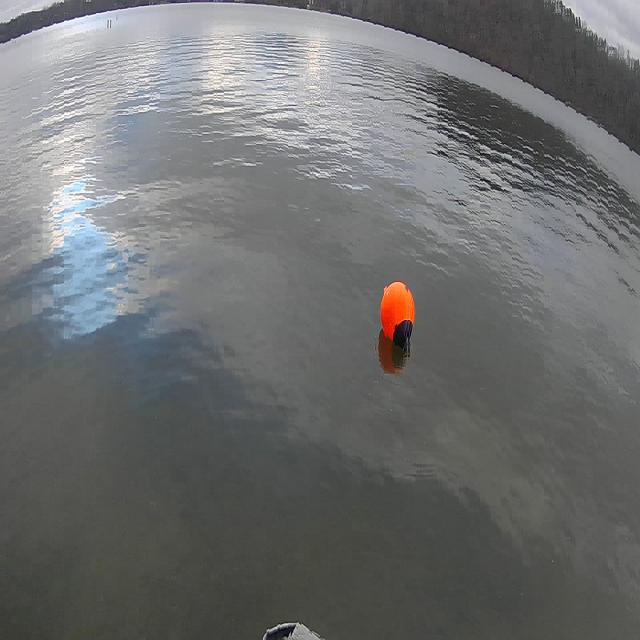Buoy: (374, 267, 419, 362)
